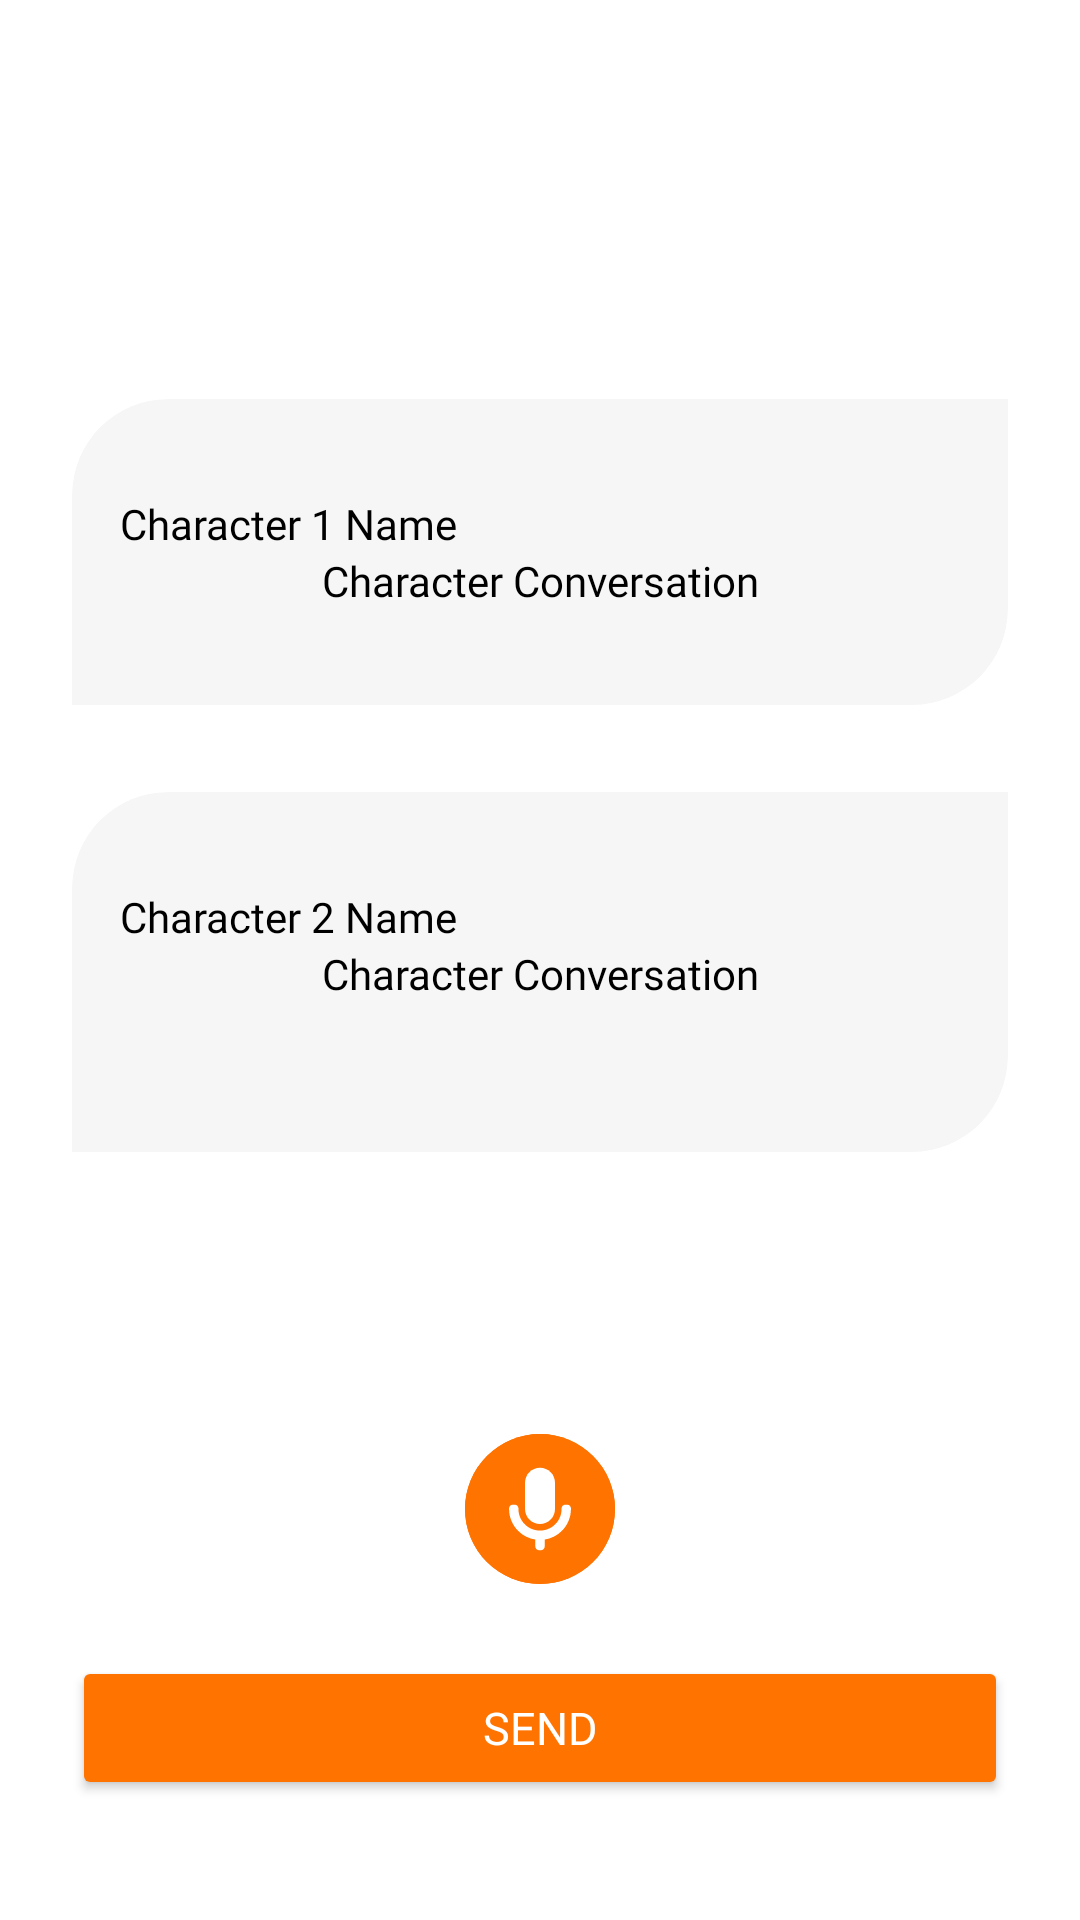

Icon click points for this 1080x1920 phone screenshot, format (x,y):
mic on: (540,1509)
